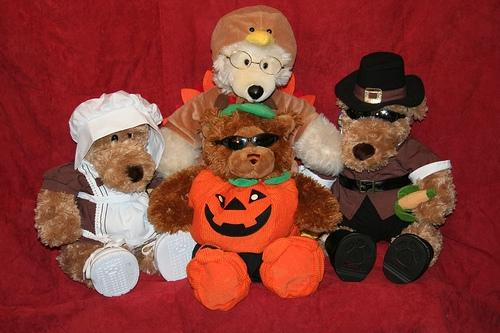pumpkin: (188, 169, 298, 254)
